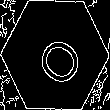O_NW: (26, 23, 84, 87)
